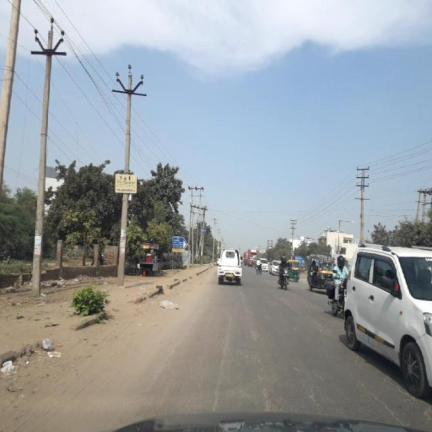Road: (13, 269, 431, 430)
